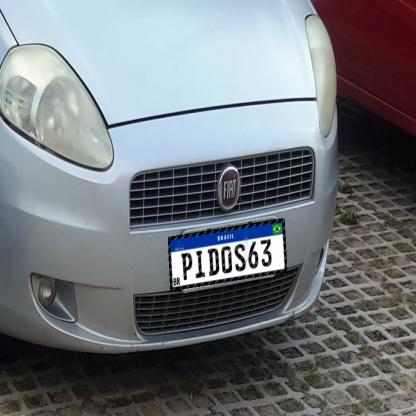PlacaM: (168, 218, 287, 290)
